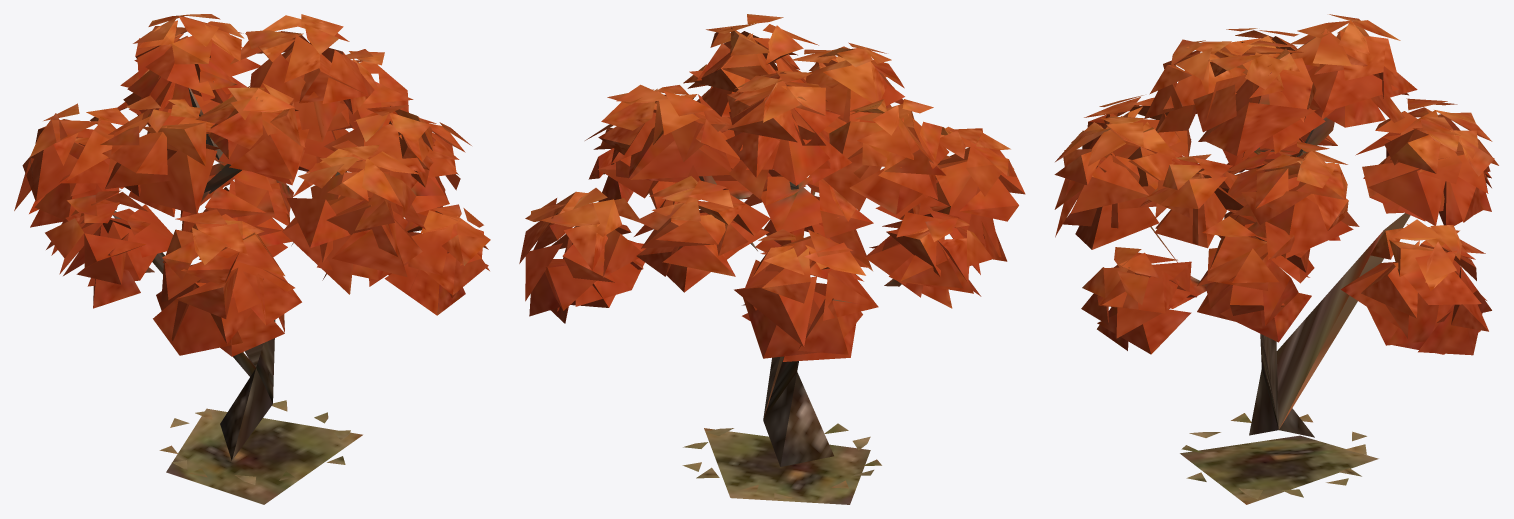
Rendered from autumn_oak.glb.
3 views of the same model, side by side, from view 1: azimuth 30°, elevation 25°; view 2: azimuth 150°, elevation 25°; view 3: azimuth 270°, elevation 25° (orthographic).
Parts seen in each view (by area): view 1: Mesh; view 2: Mesh; view 3: Mesh.
Boxes of the visible parts, x1,y1,x2,y2 form: Mesh: (14, 14, 490, 504); Mesh: (519, 14, 1025, 504); Mesh: (1054, 14, 1498, 504).
Size of the model in its own units: 0.9556 by 0.9941 by 0.9126.
1 material, 1 textured.
